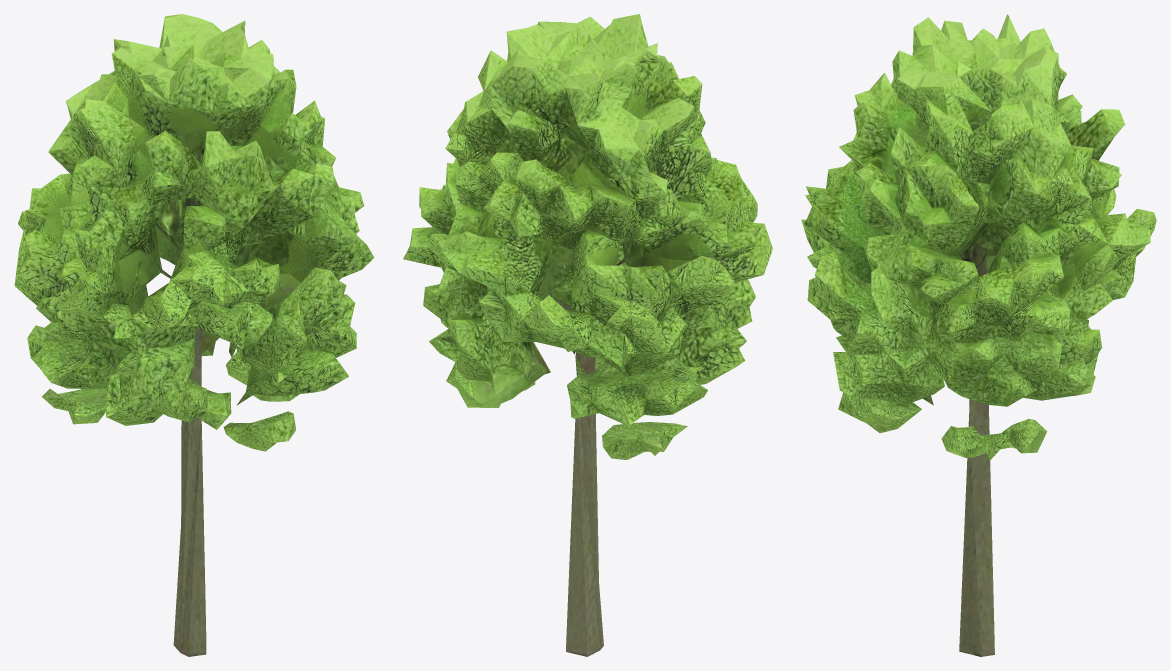
File: broadleaf_tree.glb
3 views of the same model, side by side, from view 1: azimuth 30°, elevation 25°; view 2: azimuth 150°, elevation 25°; view 3: azimuth 270°, elevation 25° (orthographic).
Visible parts, largest first — view 1: Mesh_0; view 2: Mesh_0; view 3: Mesh_0.
Boxes of the visible parts, <box> form: Mesh_0: <box>14,14,374,656</box>; Mesh_0: <box>403,14,772,656</box>; Mesh_0: <box>801,14,1156,656</box>.
Size of the model in its own units: 1 by 1.87 by 0.976.
1 material, 1 textured.
